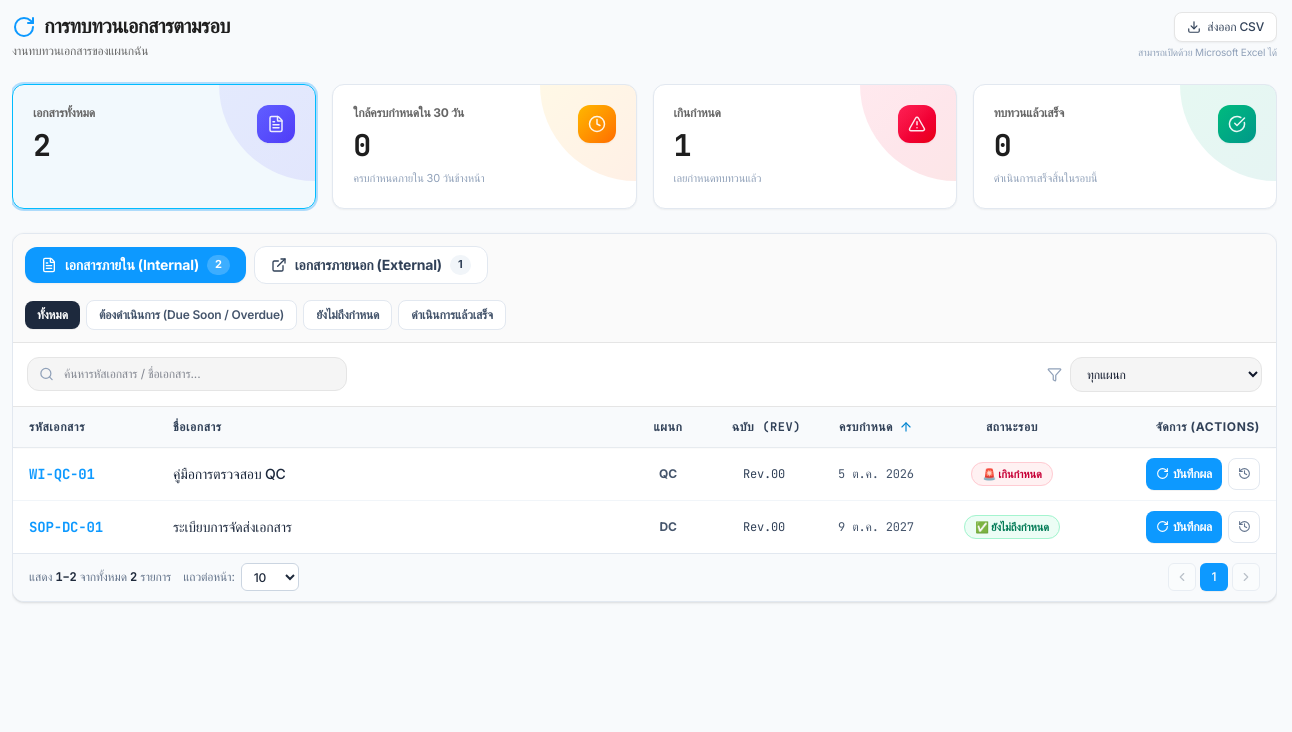
Test: Periodic Review Sidebar Badge & Management Modal Integration › 4. Unified workspace switches between Internal and External tabs directly without modal and displays action buttons
This screenshot has width=1292, height=732.
Expected: the text "WI-QC-01" is shown, [13,447,157,500]
Expected: the button "บันทึกผล" in the row of "WI-QC-01" is shown, [1146,458,1222,490]
Switch to External tab directly in the workspace
Click the button "เอกสารภายนอก (External) 1": [371, 265] box [254,246,488,284]
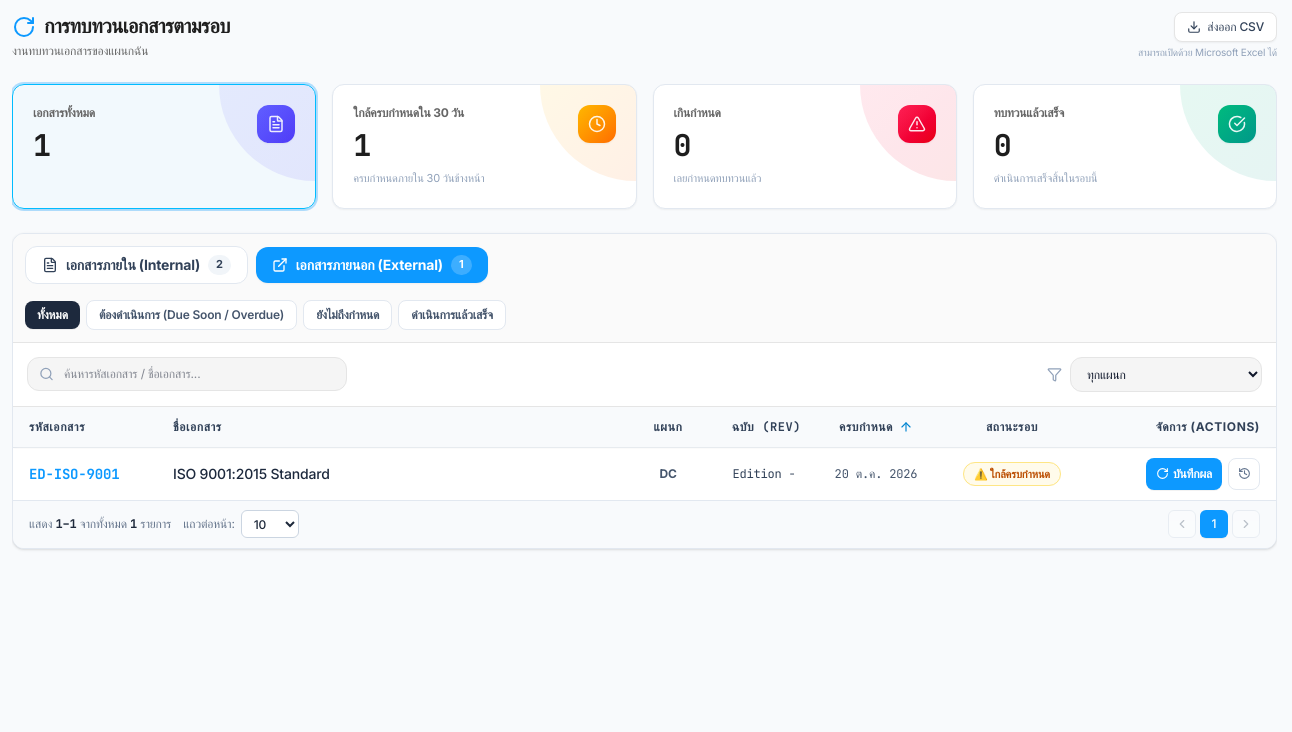
Expected: the button "บันทึกผล" is shown, [1146,458,1222,490]
Expected: the text "ED-ISO-9001" is shown, [13,447,157,500]
